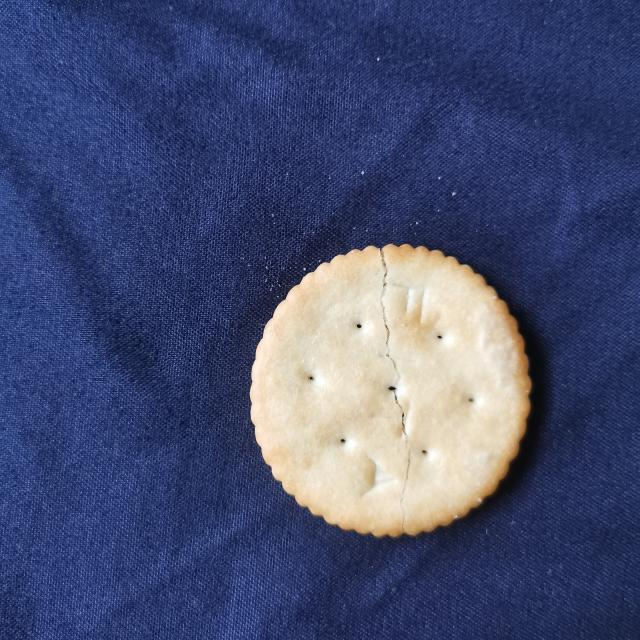Fracture: (362, 245, 417, 538)
